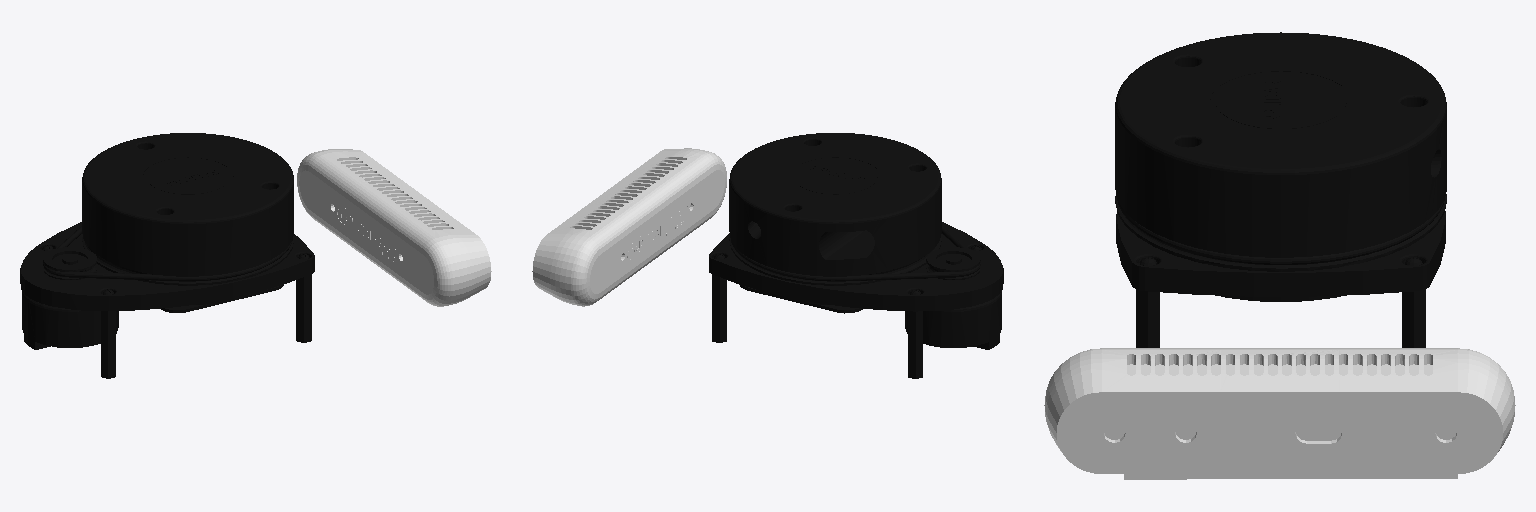
robot.urdf — mecanum model v.4:
<?xml version="1.0" encoding="utf-8"?>
<!-- This URDF was automatically created by SolidWorks to URDF Exporter! Originally created by [author] ([email redacted]) 
     Commit Version: 1.6.0-4-g7f85cfe  Build Version: 1.6.7995.38578
     For more information, please see http://wiki.ros.org/sw_urdf_exporter -->
<robot
  name="mecanum model v.4">
  <link
    name="base_link">
    <inertial>
      <origin
        xyz="0.00868847650405078 -0.000257115100040666 -0.00100383255756042"
        rpy="0 0 0" />
      <mass
        value="0.438269791762358" />
      <inertia
        ixx="0.000281554923820775"
        ixy="-4.47037724008487E-09"
        ixz="-1.2708786782725E-08"
        iyy="0.000902471808953337"
        iyz="-1.44937525962296E-07"
        izz="0.00114409887764575" />
    </inertial>
    <visual>
      <origin
        xyz="0 0 0"
        rpy="0 0 0" />
      <geometry>
        <mesh
          filename="package://mecanum model v.4/meshes/base_link.STL" />
      </geometry>
      <material
        name="">
        <color
          rgba="0.792156862745098 0.819607843137255 0.933333333333333 1" />
      </material>
    </visual>
    <collision>
      <origin
        xyz="0 0 0"
        rpy="0 0 0" />
      <geometry>
        <mesh
          filename="package://mecanum model v.4/meshes/base_link.STL" />
      </geometry>
    </collision>
  </link>
  <link
    name="Left_front_main_link">
    <inertial>
      <origin
        xyz="1.91651541997517E-08 -1.91454755868459E-09 3.54674939309213E-05"
        rpy="0 0 0" />
      <mass
        value="0.218196881966572" />
      <inertia
        ixx="6.03098003991985E-05"
        ixy="5.46342620592672E-11"
        ixz="2.12557030727322E-11"
        iyy="6.03113932361835E-05"
        iyz="6.32278514410869E-11"
        izz="6.91134863510834E-05" />
    </inertial>
    <visual>
      <origin
        xyz="0 0 0"
        rpy="0 0 0" />
      <geometry>
        <mesh
          filename="package://mecanum model v.4/meshes/Left_front_main_link.STL" />
      </geometry>
      <material
        name="">
        <color
          rgba="0.792156862745098 0.819607843137255 0.933333333333333 1" />
      </material>
    </visual>
    <collision>
      <origin
        xyz="0 0 0"
        rpy="0 0 0" />
      <geometry>
        <mesh
          filename="package://mecanum model v.4/meshes/Left_front_main_link.STL" />
      </geometry>
    </collision>
  </link>
  <joint
    name="Left_front_main"
    type="continuous">
    <origin
      xyz="0.075 0.093 -0.0165"
      rpy="1.5708 0 0" />
    <parent
      link="base_link" />
    <child
      link="Left_front_main_link" />
    <axis
      xyz="0 0 1" />
    <limit
      effort="10"
      velocity="10" />
    <dynamics
      damping="0.1"
      friction="0.1" />
  </joint>
  <link
    name="Right_front_main_link">
    <inertial>
      <origin
        xyz="4.46523888003592E-08 -6.75413587385154E-08 -0.000212318386699786"
        rpy="0 0 0" />
      <mass
        value="0.217950760055372" />
      <inertia
        ixx="6.00995748625438E-05"
        ixy="-7.83278277928891E-11"
        ixz="-2.69815527512961E-11"
        iyy="6.0100935771305E-05"
        iyz="1.81167950824226E-11"
        izz="6.86941143604206E-05" />
    </inertial>
    <visual>
      <origin
        xyz="0 0 0"
        rpy="0 0 0" />
      <geometry>
        <mesh
          filename="package://mecanum model v.4/meshes/Right_front_main_link.STL" />
      </geometry>
      <material
        name="">
        <color
          rgba="0.792156862745098 0.819607843137255 0.933333333333333 1" />
      </material>
    </visual>
    <collision>
      <origin
        xyz="0 0 0"
        rpy="0 0 0" />
      <geometry>
        <mesh
          filename="package://mecanum model v.4/meshes/Right_front_main_link.STL" />
      </geometry>
    </collision>
  </link>
  <joint
    name="Right_front_main"
    type="continuous">
    <origin
      xyz="0.075 -0.093002 -0.0165"
      rpy="1.5708 0 0" />
    <parent
      link="base_link" />
    <child
      link="Right_front_main_link" />
    <axis
      xyz="0 0 -1" />
    <limit
      effort="10"
      velocity="10" />
    <dynamics
      damping="0.1"
      friction="0.1" />
  </joint>
  <link
    name="Right_back_main_link">
    <inertial>
      <origin
        xyz="-3.36449804266836E-08 1.08012634635057E-08 -3.55185643661077E-05"
        rpy="0 0 0" />
      <mass
        value="0.218196600372531" />
      <inertia
        ixx="6.03096002691482E-05"
        ixy="2.39952561726302E-12"
        ixz="3.49640917533502E-13"
        iyy="6.0311444302531E-05"
        iyz="1.18459960092786E-10"
        izz="6.91133917321441E-05" />
    </inertial>
    <visual>
      <origin
        xyz="0 0 0"
        rpy="0 0 0" />
      <geometry>
        <mesh
          filename="package://mecanum model v.4/meshes/Right_back_main_link.STL" />
      </geometry>
      <material
        name="">
        <color
          rgba="0.792156862745098 0.819607843137255 0.933333333333333 1" />
      </material>
    </visual>
    <collision>
      <origin
        xyz="0 0 0"
        rpy="0 0 0" />
      <geometry>
        <mesh
          filename="package://mecanum model v.4/meshes/Right_back_main_link.STL" />
      </geometry>
    </collision>
  </link>
  <joint
    name="Right_back_main"
    type="continuous">
    <origin
      xyz="-0.075 -0.093 -0.0165"
      rpy="1.5708 0 0" />
    <parent
      link="base_link" />
    <child
      link="Right_back_main_link" />
    <axis
      xyz="0 0 -1" />
    <limit
      effort="10"
      velocity="10" />
    <dynamics
      damping="0.1"
      friction="0.1" />
  </joint>
  <link
    name="Left_back_main_link">
    <inertial>
      <origin
        xyz="1.25928190736202E-07 9.02516253536989E-08 0.000212252459011103"
        rpy="0 0 0" />
      <mass
        value="0.217951478604634" />
      <inertia
        ixx="6.00998665627385E-05"
        ixy="-1.35668841049303E-10"
        ixz="2.20302791321124E-11"
        iyy="6.01010944337809E-05"
        iyz="-7.72858410492777E-11"
        izz="6.86943038179532E-05" />
    </inertial>
    <visual>
      <origin
        xyz="0 0 0"
        rpy="0 0 0" />
      <geometry>
        <mesh
          filename="package://mecanum model v.4/meshes/Left_back_main_link.STL" />
      </geometry>
      <material
        name="">
        <color
          rgba="0.792156862745098 0.819607843137255 0.933333333333333 1" />
      </material>
    </visual>
    <collision>
      <origin
        xyz="0 0 0"
        rpy="0 0 0" />
      <geometry>
        <mesh
          filename="package://mecanum model v.4/meshes/Left_back_main_link.STL" />
      </geometry>
    </collision>
  </link>
  <joint
    name="Left_back_main"
    type="continuous">
    <origin
      xyz="-0.075 0.093002 -0.0165"
      rpy="1.5708 0 0" />
    <parent
      link="base_link" />
    <child
      link="Left_back_main_link" />
    <axis
      xyz="0 0 1" />
    <limit
      effort="10"
      velocity="10" />
    <dynamics
      damping="0.1"
      friction="0.1" />
  </joint>
  <link
    name="Realsense_link">
    <inertial>
      <origin
        xyz="-0.0103709928154782 5.64366252200227E-05 -0.000295341784203991"
        rpy="0 0 0" />
      <mass
        value="0.0417075290818711" />
      <inertia
        ixx="3.21186727343634E-05"
        ixy="-6.22845031418555E-09"
        ixz="3.41499561748847E-08"
        iyy="2.82331454727002E-06"
        iyz="1.4476411224919E-08"
        izz="3.16083294429481E-05" />
    </inertial>
    <visual>
      <origin
        xyz="0 0 0"
        rpy="0 0 0" />
      <geometry>
        <mesh
          filename="package://mecanum model v.4/meshes/Realsense_link.STL" />
      </geometry>
      <material
        name="">
        <color
          rgba="0.898039215686275 0.898039215686275 0.898039215686275 1" />
      </material>
    </visual>
    <collision>
      <origin
        xyz="0 0 0"
        rpy="0 0 0" />
      <geometry>
        <mesh
          filename="package://mecanum model v.4/meshes/Realsense_link.STL" />
      </geometry>
    </collision>
  </link>
  <joint
    name="Realsense"
    type="fixed">
    <origin
      xyz="0.125 -0.00024252 0.054467"
      rpy="0 0 0" />
    <parent
      link="base_link" />
    <child
      link="Realsense_link" />
    <axis
      xyz="0 0 0" />
  </joint>
  <link
    name="RPLidar_link">
    <inertial>
      <origin
        xyz="-0.0065667270737461 0.000969221914658544 -0.00888016805798139"
        rpy="0 0 0" />
      <mass
        value="0.142994095653188" />
      <inertia
        ixx="4.62767161181518E-05"
        ixy="-8.53572518984292E-07"
        ixz="-3.62184026396734E-06"
        iyy="7.34746440088868E-05"
        iyz="2.04304178805859E-07"
        izz="0.000107960183716792" />
    </inertial>
    <visual>
      <origin
        xyz="0 0 0"
        rpy="0 0 0" />
      <geometry>
        <mesh
          filename="package://mecanum model v.4/meshes/RPLidar_link.STL" />
      </geometry>
      <material
        name="">
        <color
          rgba="0.101960784313725 0.101960784313725 0.101960784313725 1" />
      </material>
    </visual>
    <collision>
      <origin
        xyz="0 0 0"
        rpy="0 0 0" />
      <geometry>
        <mesh
          filename="package://mecanum model v.4/meshes/RPLidar_link.STL" />
      </geometry>
    </collision>
  </link>
  <joint
    name="RPLidar"
    type="continuous">
    <origin
      xyz="0.0374418238801547 -0.00146432701544818 0.0799184773695659"
      rpy="0 0 0" />
    <parent
      link="base_link" />
    <child
      link="RPLidar_link" />
    <axis
      xyz="0 0 1" />
  </joint>
</robot>

--- Facts derived from the render (not from the file) ---
3 views of the same robot in one strip: view 1: azimuth 30°, elevation 25°; view 2: azimuth 150°, elevation 25°; view 3: azimuth 270°, elevation 25° (orthographic).
Robot: mecanum model v.4 — 7 links, 6 joints (5 continuous, 1 fixed); root link base_link; default pose: every joint at zero.
Links seen in each view (by area): view 1: RPLidar_link, Realsense_link; view 2: RPLidar_link, Realsense_link; view 3: RPLidar_link, Realsense_link.
Link boxes in pixels (left/top/right/bottom): RPLidar_link: left=20, top=133, right=314, bottom=378; Realsense_link: left=297, top=149, right=491, bottom=306; RPLidar_link: left=709, top=133, right=1003, bottom=378; Realsense_link: left=532, top=148, right=726, bottom=306; RPLidar_link: left=1115, top=32, right=1446, bottom=347; Realsense_link: left=1044, top=348, right=1515, bottom=479.
Bounding box of the posed robot: 0.1494 × 0.0994 × 0.0546 m (x, y, z).
2 mesh visuals loaded from 7 distinct referenced files (2 binary STL); not drawn: 5 (reference not matched to a file when rendering).